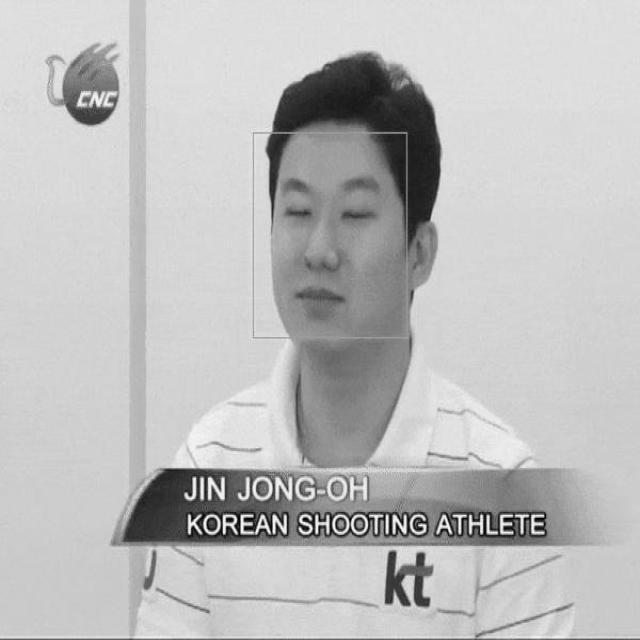fake: (254, 136, 408, 336)
